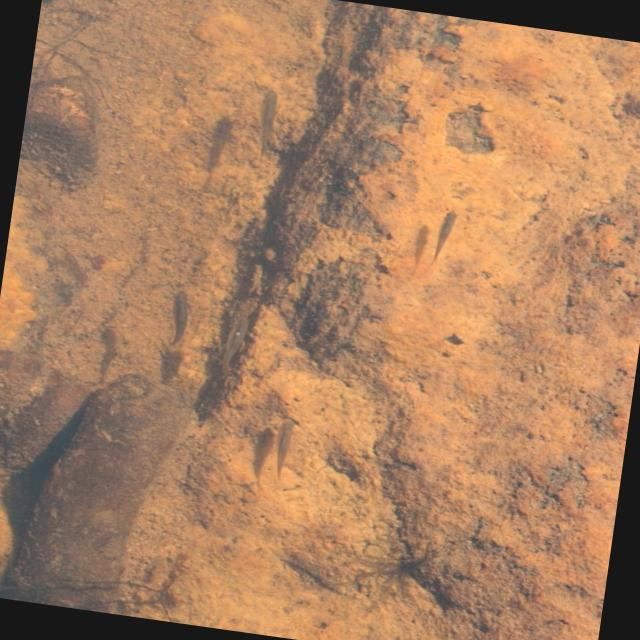Sivrisinek Baligi: (260, 412, 306, 482), (250, 84, 292, 158), (426, 202, 464, 266), (162, 286, 197, 354)
